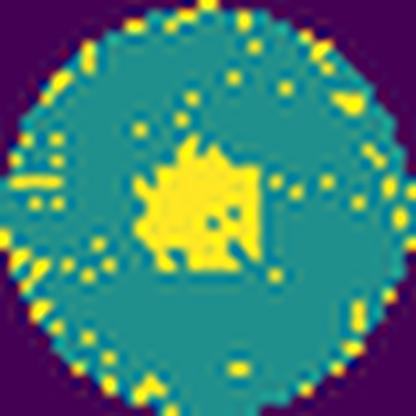Center: (132, 132, 263, 276)
